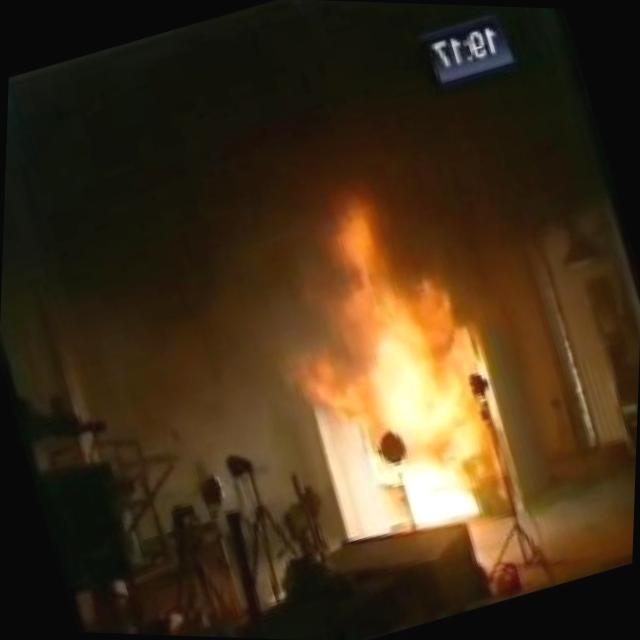fire: (259, 171, 520, 504)
smoke: (0, 0, 619, 380)
